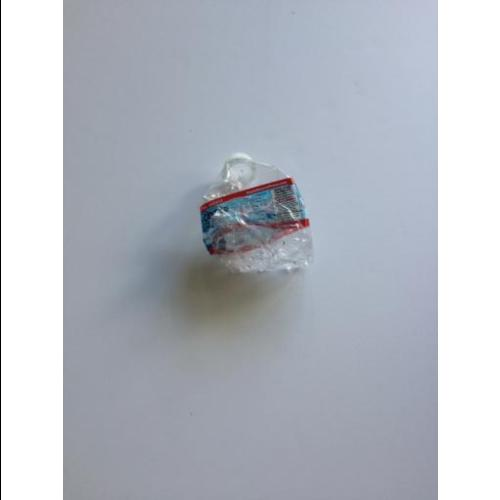plastic: (202, 155, 317, 275)
